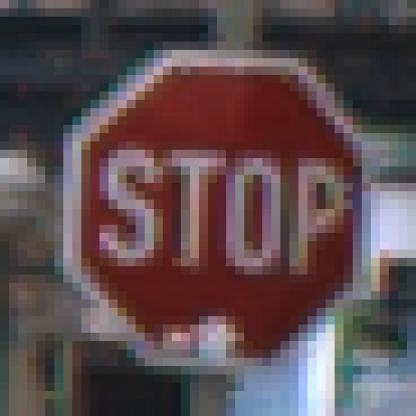stop: (65, 37, 371, 370)
